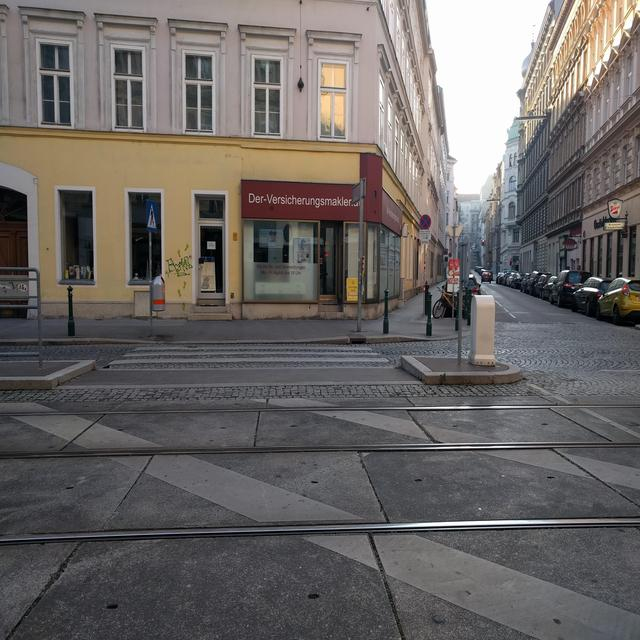Bicycle: (432, 286, 452, 318)
Billboard: (241, 179, 402, 235), (562, 198, 627, 250), (447, 259, 458, 283), (346, 278, 357, 300), (507, 247, 518, 261)
Car: (467, 270, 639, 324), (442, 298, 451, 316)
Trash Can: (153, 276, 164, 311)
Vegetation: (457, 206, 477, 265)
